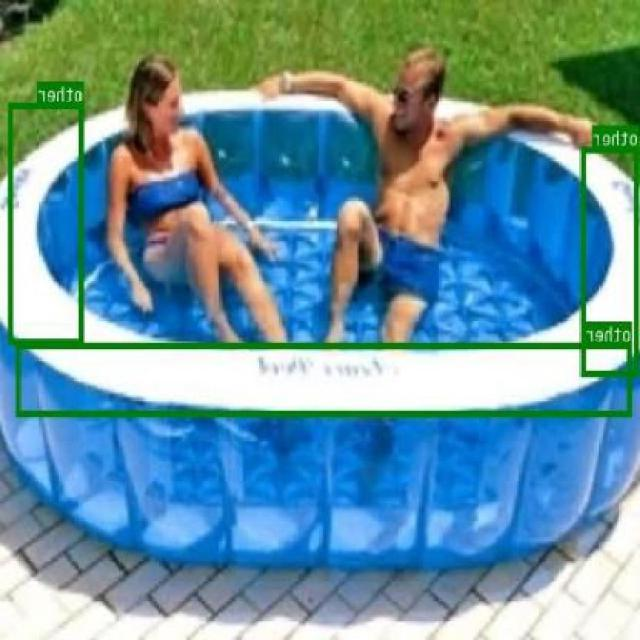other: (17, 342, 632, 416), (9, 102, 85, 344), (582, 145, 640, 376)
